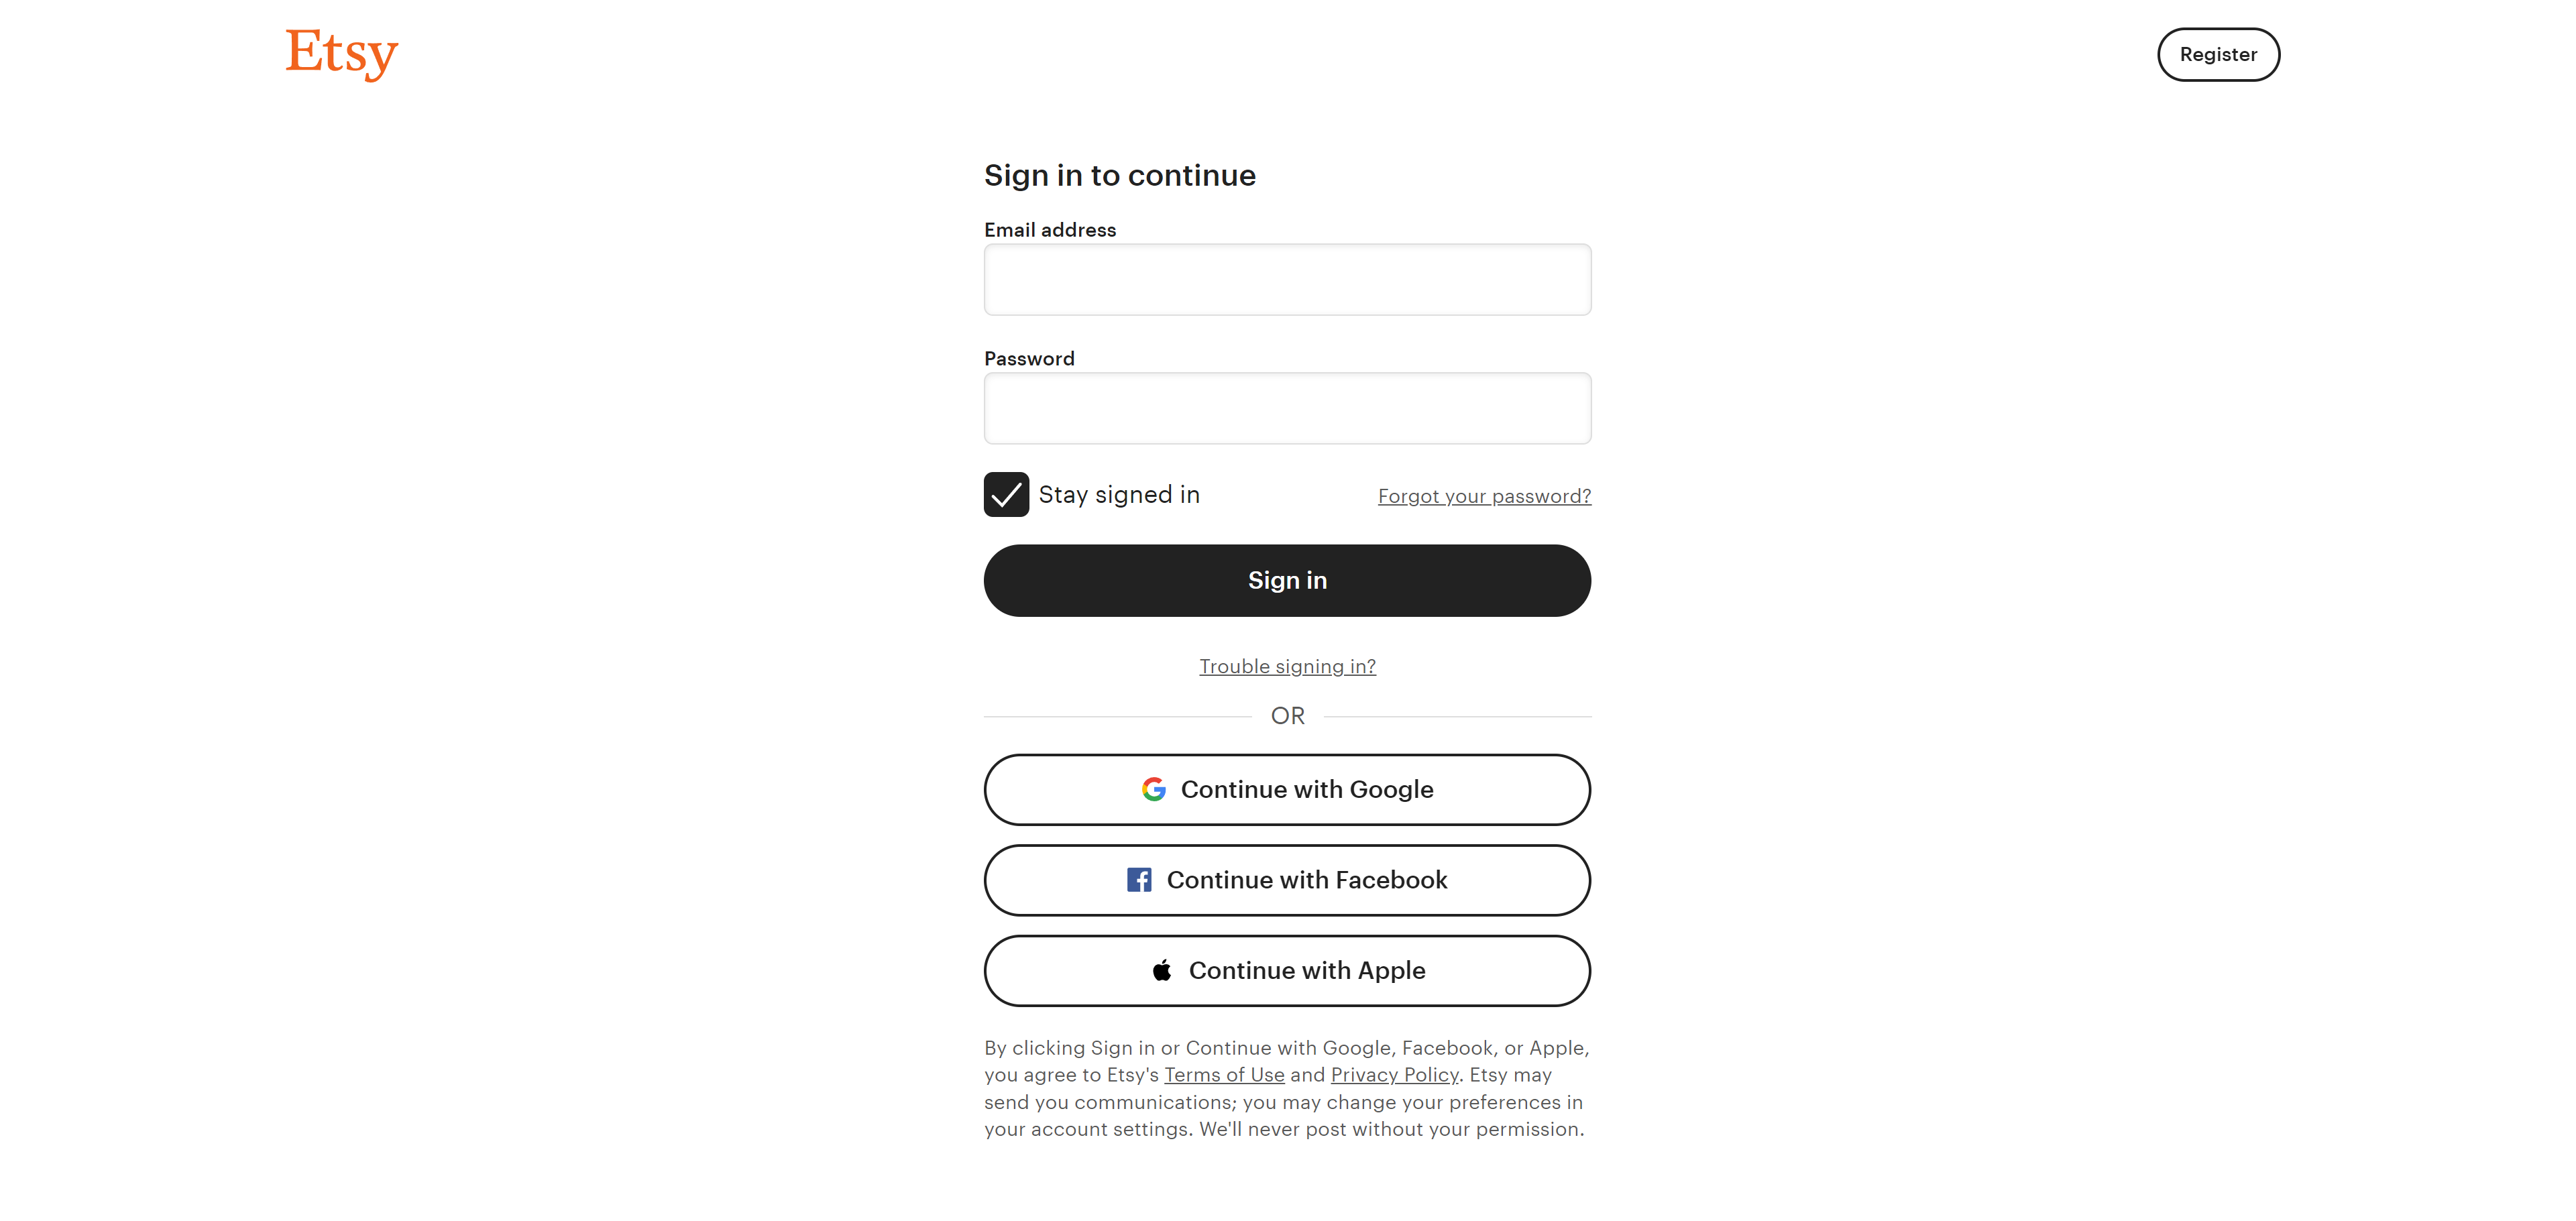login_button: (982, 546, 1590, 616)
login_form: (974, 214, 1603, 629)
